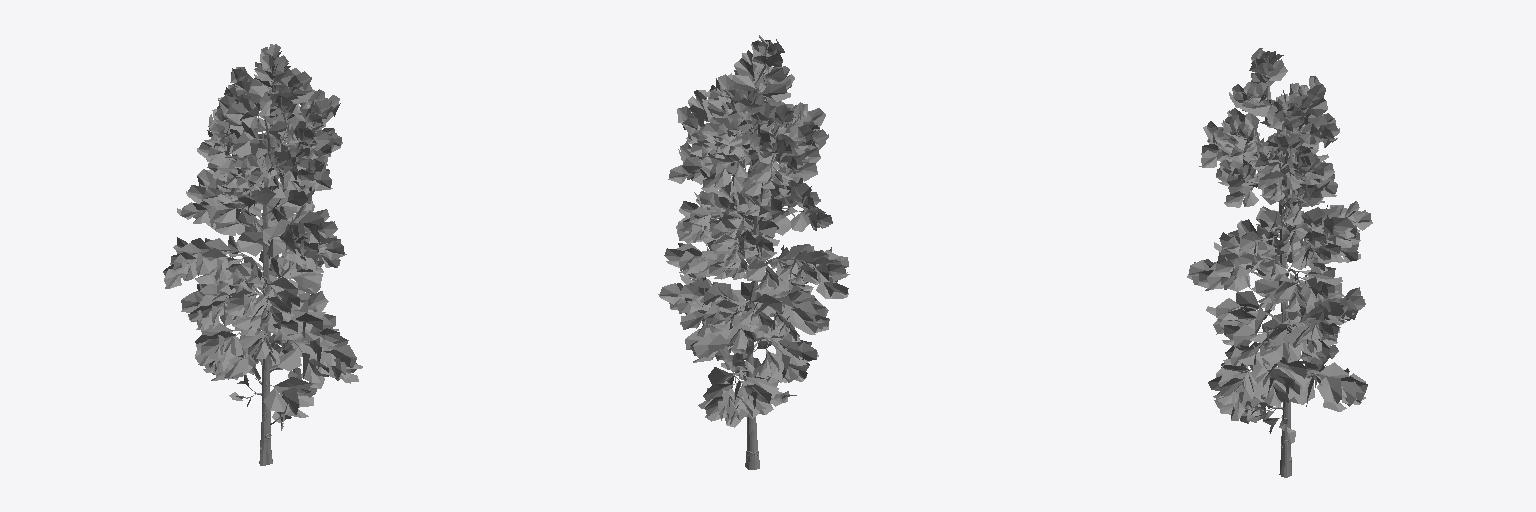
The picture shows the model from 3 angles: view 1: azimuth 30°, elevation 25°; view 2: azimuth 150°, elevation 25°; view 3: azimuth 270°, elevation 25°; orthographic projection.
Visible parts, largest first — view 1: conifer_macedonian_pine_5; view 2: conifer_macedonian_pine_5; view 3: conifer_macedonian_pine_5.
Part boxes in pixels (x1,y1,x2,y2): conifer_macedonian_pine_5: (163, 44, 362, 465); conifer_macedonian_pine_5: (658, 35, 849, 469); conifer_macedonian_pine_5: (1187, 48, 1372, 477).
Size of the model in its own units: 1337 by 3143 by 1252.